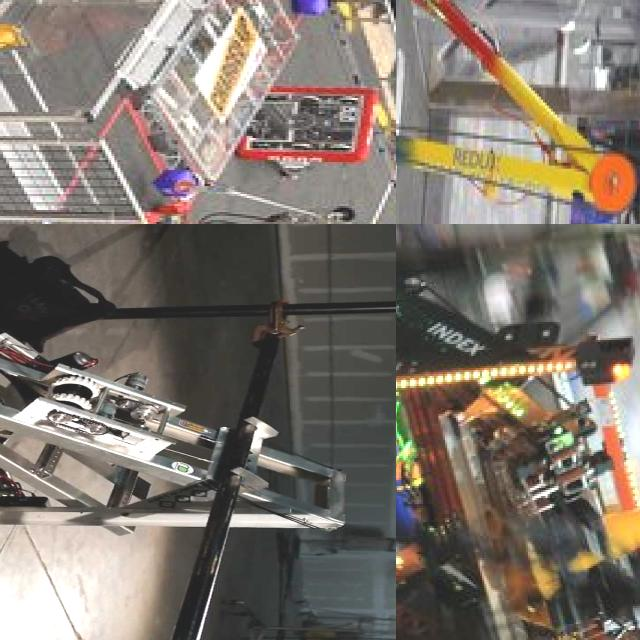FRC-Robots: (396, 227, 640, 640), (0, 321, 371, 573), (396, 0, 636, 224), (242, 80, 396, 169), (131, 173, 325, 224)
